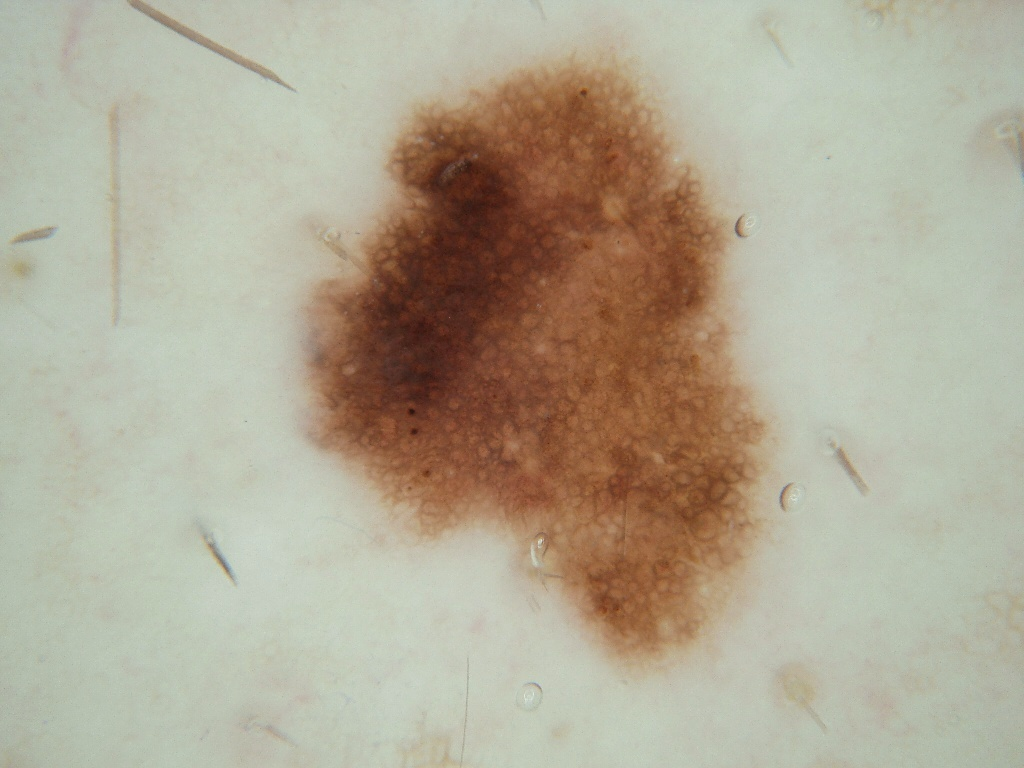Detected Lesion: (285, 36, 794, 680)
